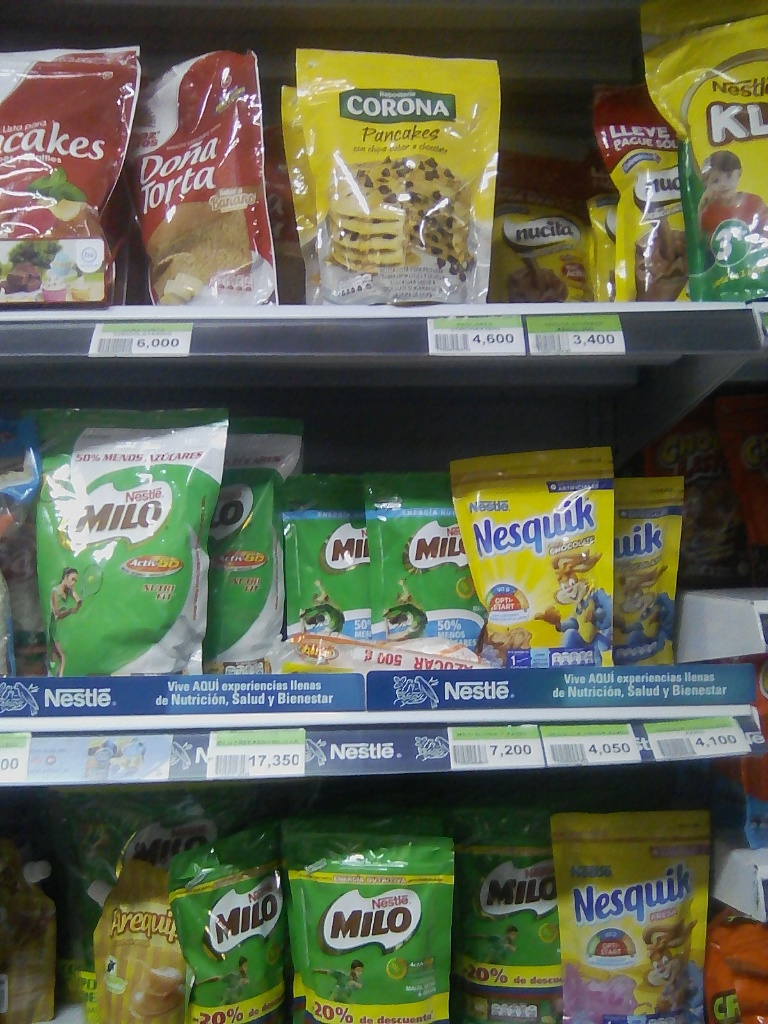COL0170203DYP25000: (276, 816, 448, 1023)
COL0170205DYP20000: (357, 473, 489, 657)
COL0170205DYP50000: (28, 407, 226, 688)
COL0170303DYP20000: (441, 442, 615, 669)
COL0170305DYP20000: (551, 810, 712, 1023)
